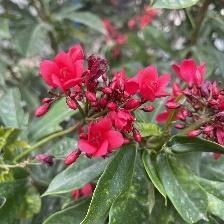jatropha: (77, 116, 130, 162), (38, 51, 88, 92), (139, 59, 173, 105)
